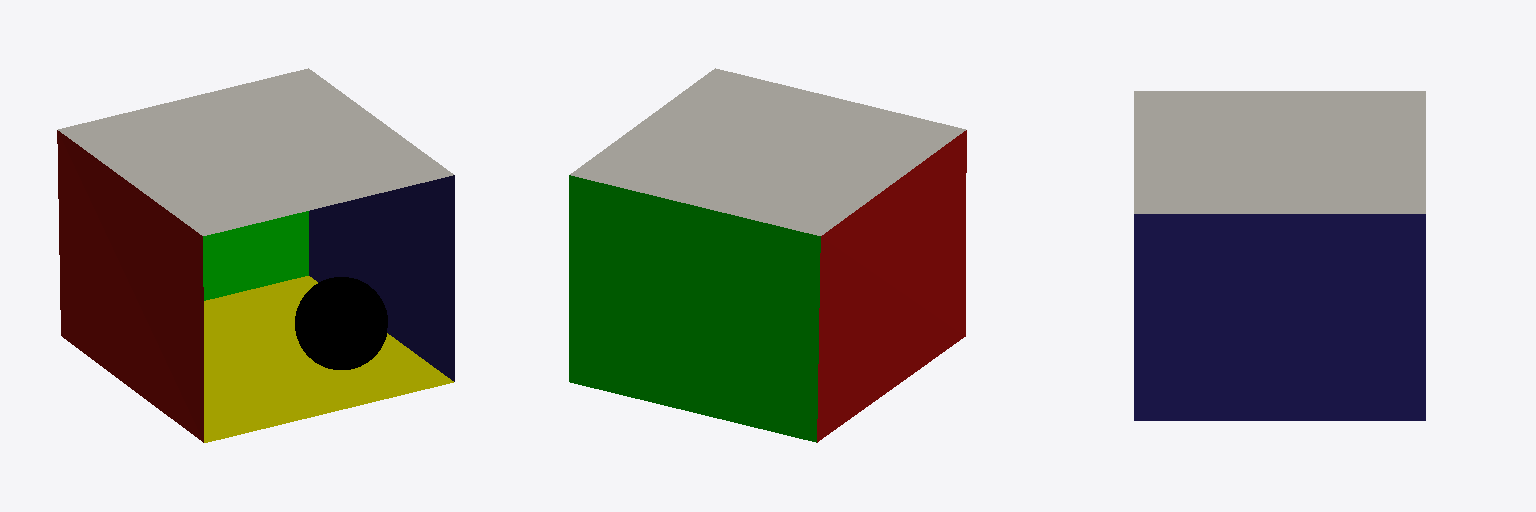
Rendered from custom.obj.
The picture shows the model from 3 angles: view 1: azimuth 30°, elevation 25°; view 2: azimuth 150°, elevation 25°; view 3: azimuth 270°, elevation 25°; orthographic projection.
Visible parts, largest first — view 1: CornellBox-Sphere; view 2: CornellBox-Sphere; view 3: CornellBox-Sphere.
Part boxes in pixels (x1,y1,x2,y2): CornellBox-Sphere: (57, 68, 454, 442); CornellBox-Sphere: (569, 68, 966, 442); CornellBox-Sphere: (1134, 91, 1425, 420).
Size of the model in its own units: 2.02 by 1.59 by 2.03.